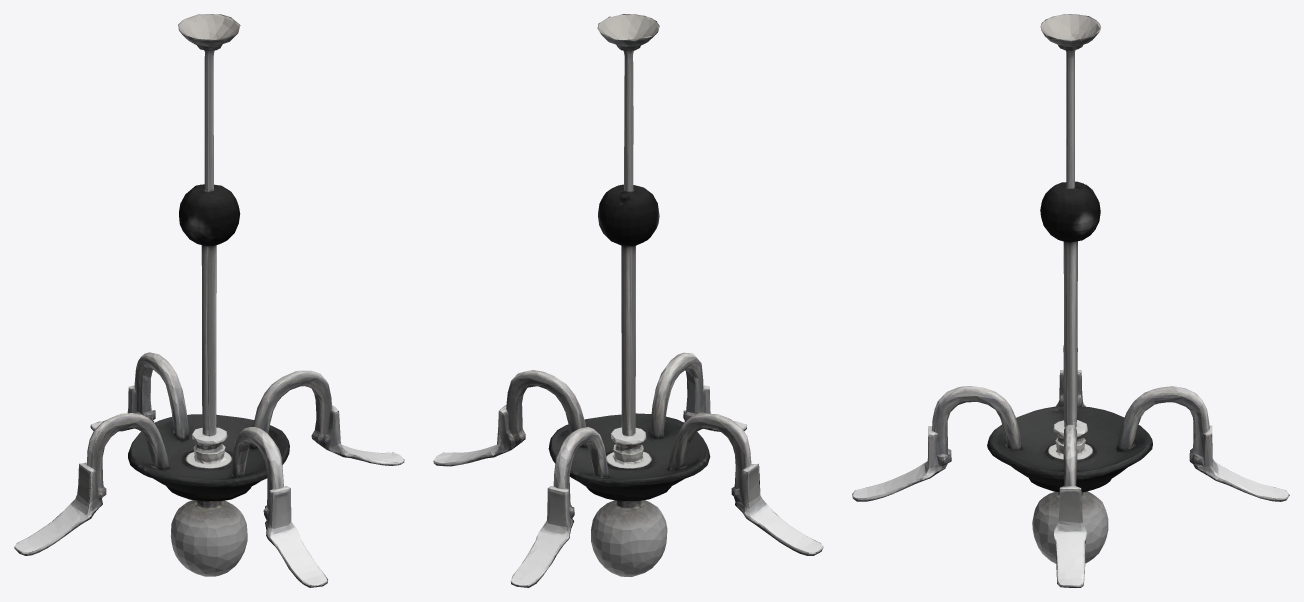
The model's file is ast_4d362c616d1d.glb.
The picture shows the model from 3 angles, left to right: view 1: azimuth 30°, elevation 25°; view 2: azimuth 150°, elevation 25°; view 3: azimuth 270°, elevation 25°; orthographic projection.
Visible parts, largest first — view 1: geometry_0; view 2: geometry_0; view 3: geometry_0.
Boxes of the visible parts, <box> form: geometry_0: <box>14,14,404,587</box>; geometry_0: <box>433,14,823,587</box>; geometry_0: <box>852,14,1289,587</box>.
Size of the model in its own units: 0.731 by 1 by 0.7371.
1 material, 1 textured.
